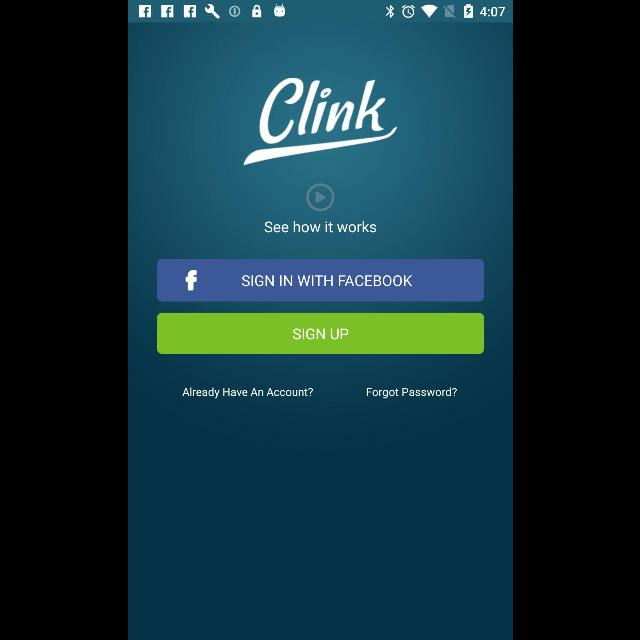icon: (306, 184, 334, 212)
image: (242, 78, 398, 166)
text: (264, 220, 376, 233), (182, 388, 312, 398), (366, 387, 456, 399)
textbutton: (156, 259, 484, 301), (156, 314, 484, 354)
uppertaskbar: (128, 1, 512, 23)
